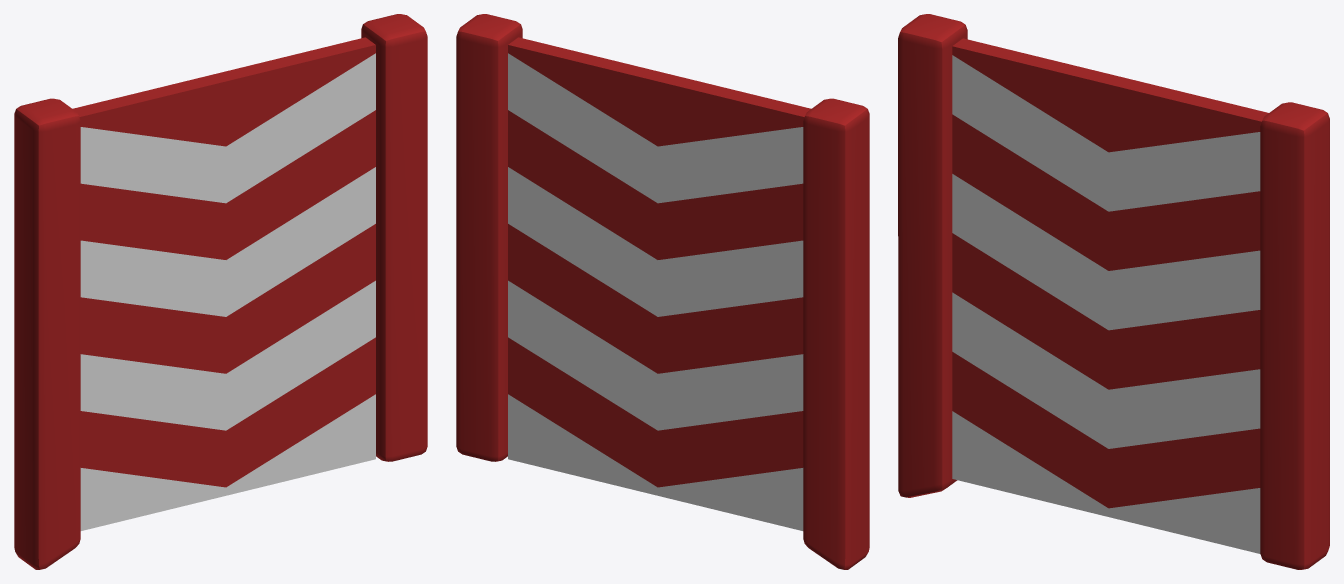
File: Obstance_Door.fbx
3 renders of one model, left to right at view 1: azimuth 30°, elevation 25°; view 2: azimuth 150°, elevation 25°; view 3: azimuth 330°, elevation 25°, orthographic. The views are drawn at different scales.
Parts seen in each view (by area): view 1: Door_Right, Door_Left, Obstance_Door; view 2: Door_Right, Door_Left, Obstance_Door; view 3: Door_Left, Door_Right, Obstance_Door.
Part boxes in pixels (x1,y1,x2,y2): Door_Right: [216, 37, 375, 495]; Door_Left: [72, 74, 226, 530]; Obstance_Door: [14, 14, 427, 569]; Door_Right: [508, 37, 667, 495]; Door_Left: [657, 74, 811, 530]; Obstance_Door: [456, 14, 869, 569]; Door_Left: [952, 38, 1118, 516]; Door_Right: [1108, 76, 1268, 553]; Obstance_Door: [898, 14, 1329, 569].
Bounding box in the file's own units: 111 × 121 × 13.4.
